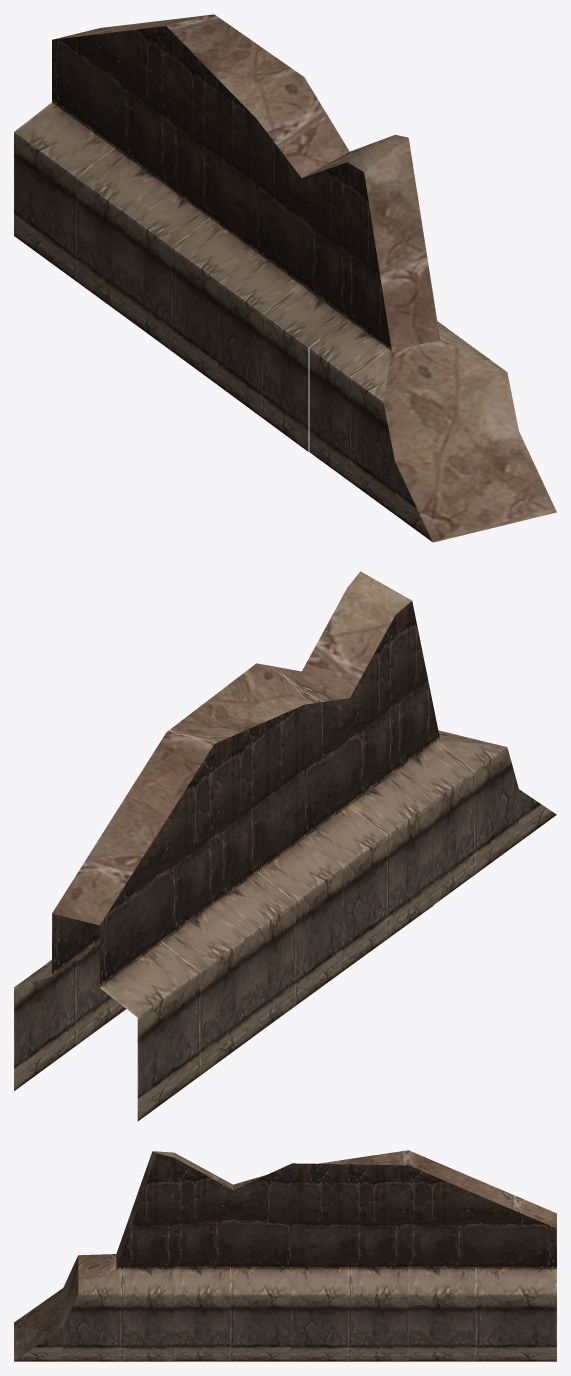
Rendered from blsd_4qiangm_04.FBX.
3 renders of one model, top to bottom at view 1: azimuth 30°, elevation 25°; view 2: azimuth 150°, elevation 25°; view 3: azimuth 270°, elevation 25°, orthographic. The views are drawn at different scales.
Visible parts, largest first — view 1: blsd_4qiangm_04; view 2: blsd_4qiangm_04; view 3: blsd_4qiangm_04.
Part boxes in pixels (box(x1,y1,x2,y2)): blsd_4qiangm_04: box(14, 14, 556, 542); blsd_4qiangm_04: box(14, 571, 556, 1121); blsd_4qiangm_04: box(14, 1150, 556, 1361).
Bounding box in the file's own units: 126 × 292 × 732.
